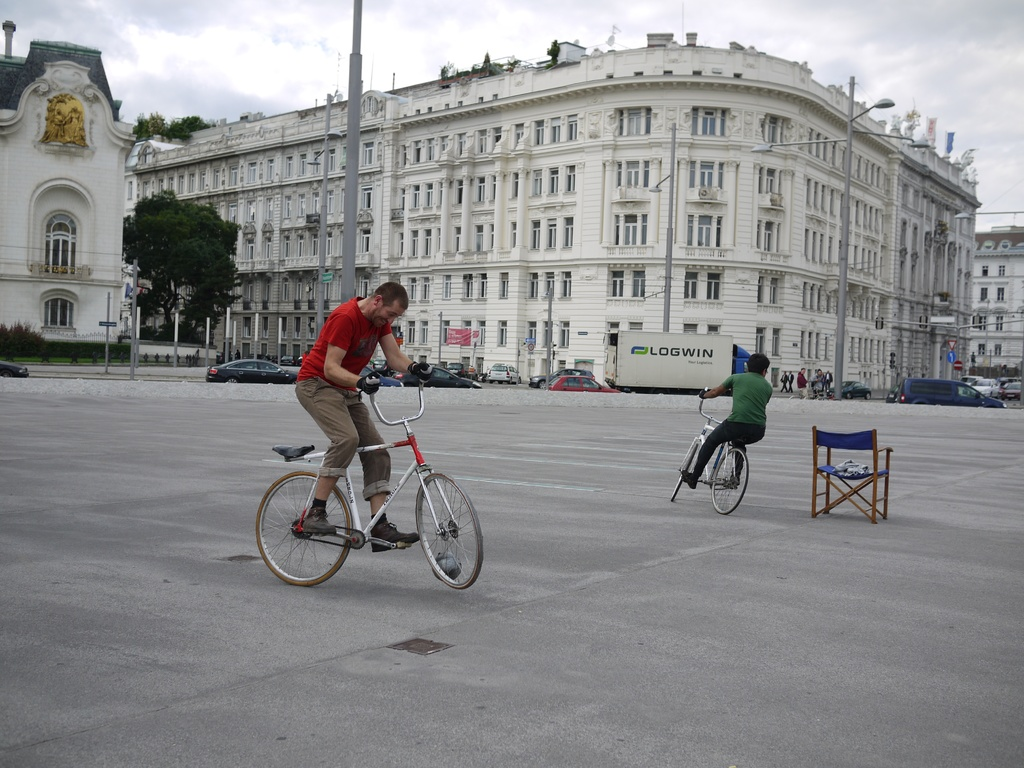Bike: (254, 389, 484, 606), (663, 410, 750, 524)
